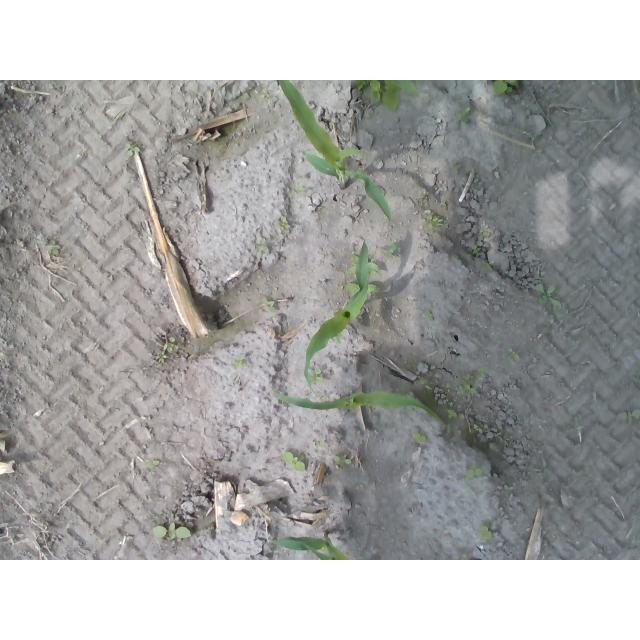Maize: (275, 80, 396, 219), (302, 238, 376, 389), (266, 384, 439, 422)
